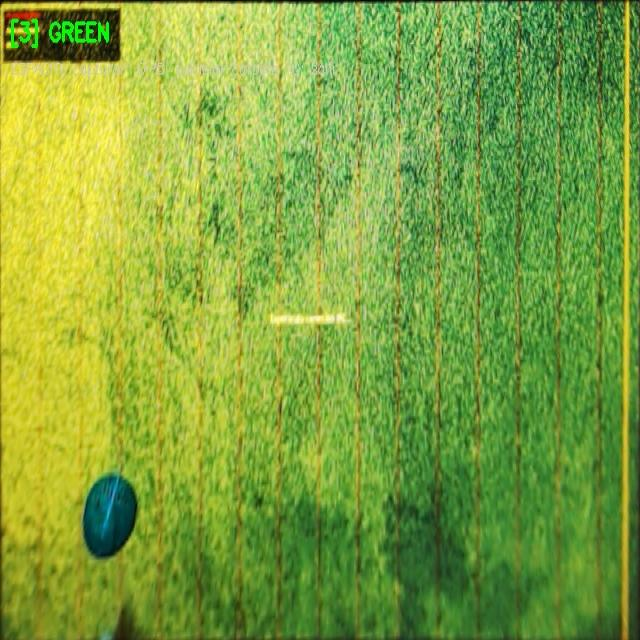green: (84, 475, 134, 559)
